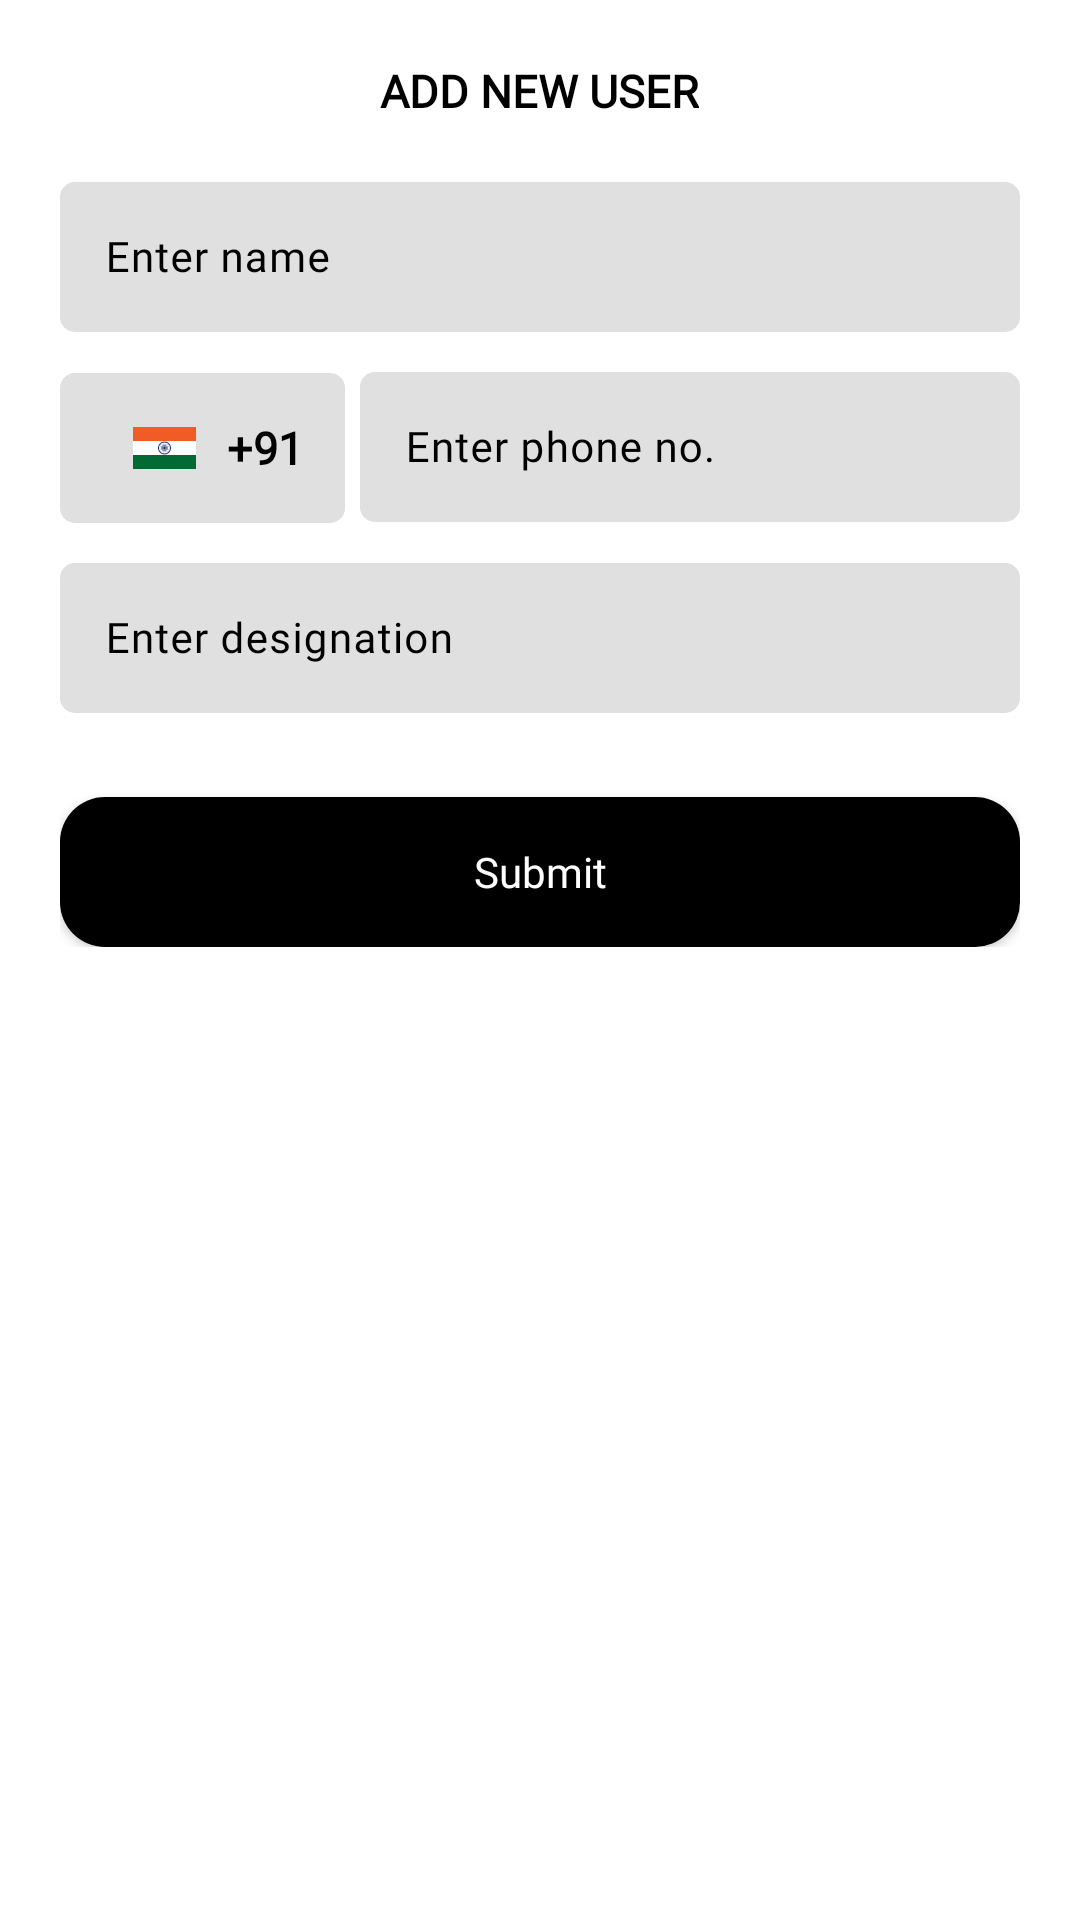

Where icons sit on this 1080x1920 app screen, as (x1, y1, x2, y2):
indian flag: (133, 427, 196, 469)
